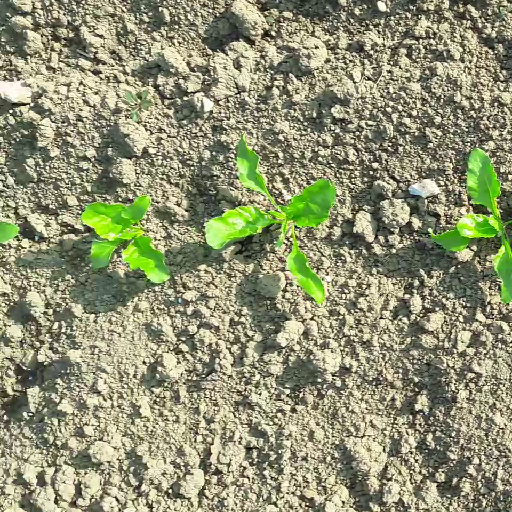sugarbeet: (200, 132, 338, 306), (423, 145, 512, 306), (78, 198, 176, 288)
weed: (121, 88, 157, 123)
